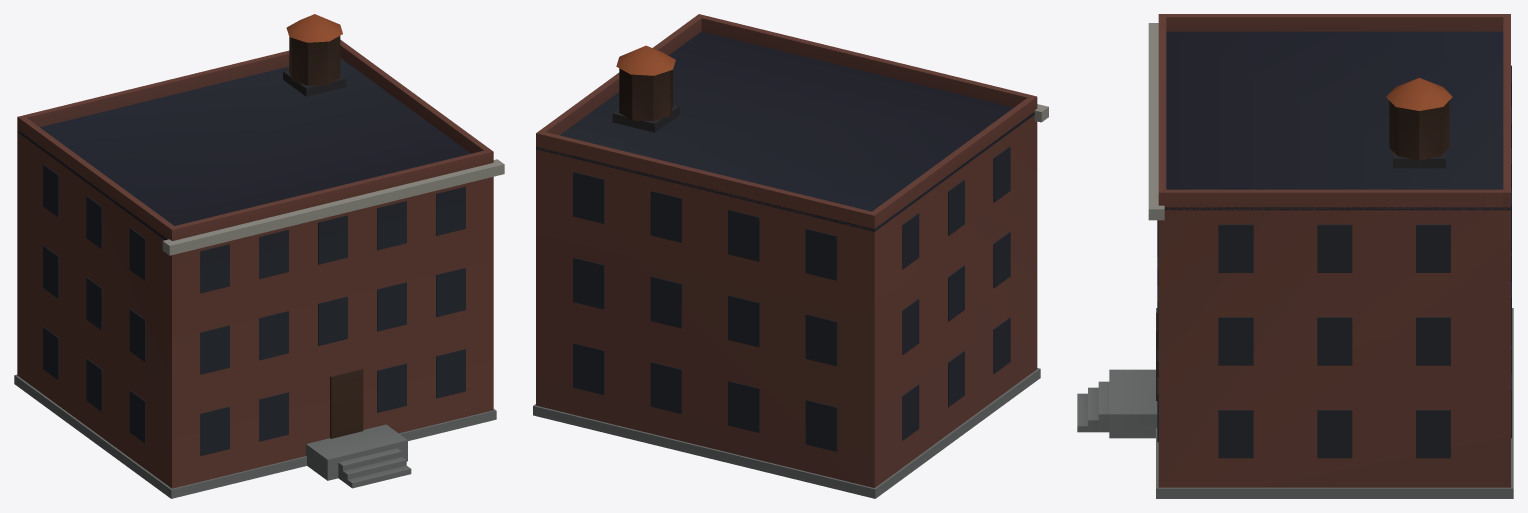
File: shell_rotrow_walkup_lod1.glb
The picture shows the model from 3 angles, left to right: view 1: azimuth 30°, elevation 25°; view 2: azimuth 150°, elevation 25°; view 3: azimuth 270°, elevation 25°; orthographic projection. The views are drawn at different scales.
Parts seen in each view (by area): view 1: shell_rotrow_walkup_lod1; view 2: shell_rotrow_walkup_lod1; view 3: shell_rotrow_walkup_lod1.
Part boxes in pixels (x1,y1,x2,y2): shell_rotrow_walkup_lod1: [14, 14, 504, 498]; shell_rotrow_walkup_lod1: [533, 14, 1048, 498]; shell_rotrow_walkup_lod1: [1077, 14, 1513, 498].
Size of the model in its own units: 12.5 by 12.03 by 12.37.
